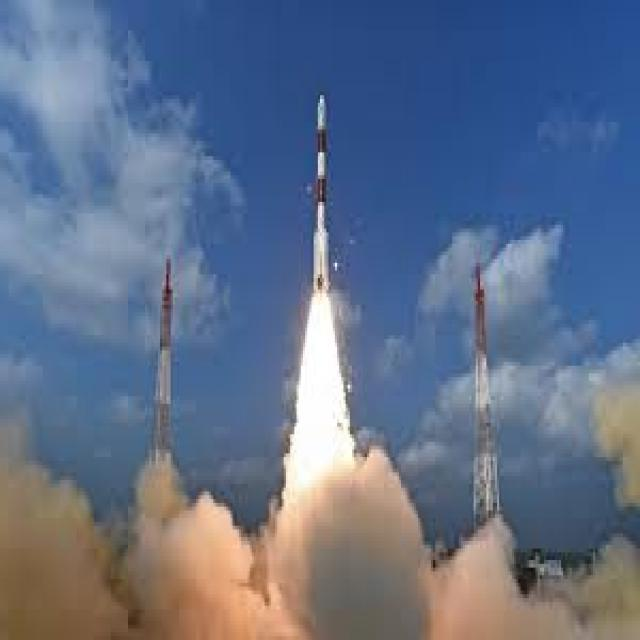missile: (309, 89, 336, 310)
